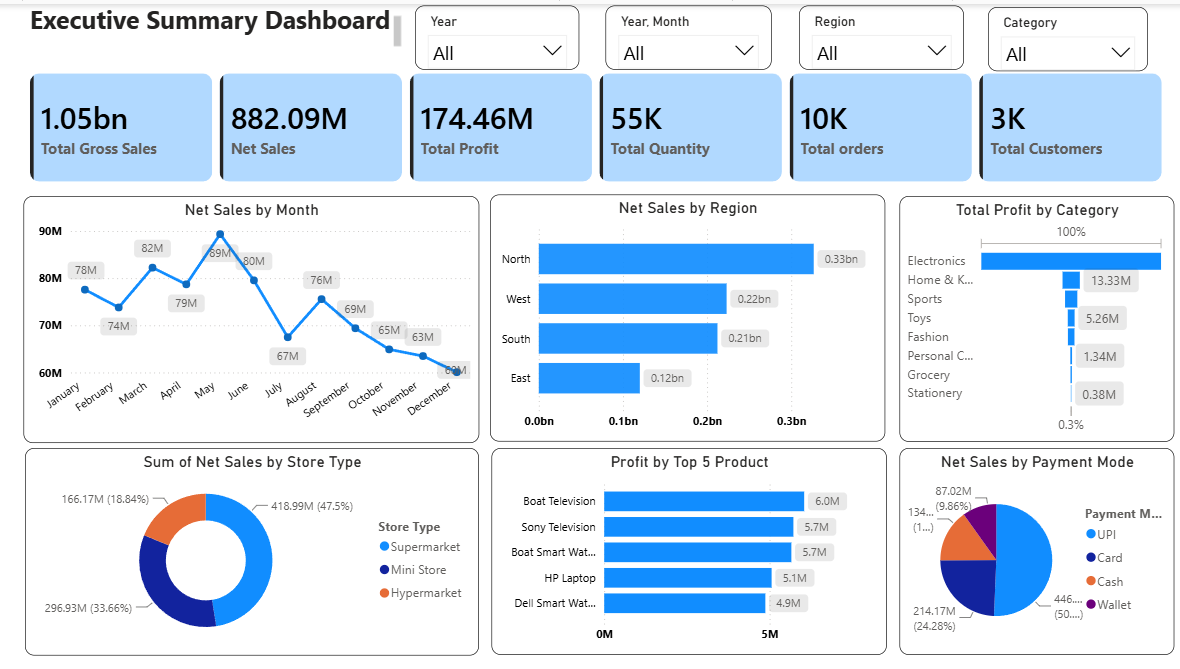

This screenshot's page, from the dashboard's own definition file:
{"tool":"powerbi","page":{"name":"Page 1","canvas":[1280,720],"ordinal":0},"visuals":[{"type":"slicer","fields":{"Values":["Date Table.Date.Variation.Date Hierarchy.Year"]},"box":[453.4,1.6,177.4,69.6],"z":0,"group":"g1"},{"type":"cardVisual","fields":{"Data":["All Measures.Total Gross Sales","All Measures.Net Sales","All Measures.Total Profit","All Measures.Total Quantity","All Measures.Total orders","All Measures.Total Customers"]},"box":[32.4,69.6,1233.9,127.9],"z":0},{"type":"textbox","box":[32.4,1.6,411.3,51.8],"z":1000},{"type":"slicer","fields":{"Values":["Date Table.Date.Variation.Date Hierarchy.Year","Date Table.Date.Variation.Date Hierarchy.Month"]},"box":[658.7,1.6,179.1,69.6],"z":1000,"group":"g1"},{"type":"group","id":"g1","title":"Group 1","box":[453.4,1.6,791.8,71.2],"z":2000},{"type":"slicer","fields":{"Values":["Stores.Region"]},"box":[867.3,2.2,178.1,69.6],"z":2000,"group":"g1"},{"type":"slicer","fields":{"Values":["Product.Category"]},"box":[1072.7,3.2,172.5,69.6],"z":3000,"group":"g1"},{"type":"lineChart","fields":{"Category":["Date Table.Date.Variation.Date Hierarchy.Month"],"Y":["All Measures.Net Sales"]},"box":[30,206.7,491.7,266.7],"z":3000},{"type":"clusteredBarChart","fields":{"Category":["Stores.Region"],"Y":["All Measures.Net Sales"]},"box":[535,205,426.7,266.7],"z":4000},{"type":"funnel","fields":{"Category":["Product.Category"],"Y":["All Measures.Total Profit"]},"box":[976.7,206.7,296.7,265],"z":5000},{"type":"donutChart","fields":{"Category":["Stores.Store Type"],"Y":["Sum(Sales.Net Sales)"]},"box":[32,480,490,224],"z":6000},{"type":"clusteredBarChart","title":"Profit by Top 5 Product","fields":{"Category":["Product.Product Name"],"Y":["All Measures.Total Profit"]},"box":[536.7,480,426.7,223.3],"z":7000},{"type":"pieChart","fields":{"Category":["Sales.Payment Mode"],"Y":["All Measures.Net Sales"]},"box":[976.7,480,296.7,223.3],"z":8000}]}

Visuals, with their boxes in screenshot pixels (x1, y1, x2, y2), scaled from the page's 1280x720 canvas onto the 1180x669 screenshot:
slicer - Date Table.Date.Variation.Date Hierarchy.Year: 418, 1, 582, 66
cardVisual - All Measures.Total Gross Sales x All Measures.Net Sales: 30, 65, 1167, 184
textbox: 30, 1, 409, 50
slicer - Date Table.Date.Variation.Date Hierarchy.Year x Date Table.Date.Variation.Date Hierarchy.Month: 607, 1, 772, 66
"Group 1" group: 418, 1, 1148, 68
slicer - Stores.Region: 800, 2, 964, 67
slicer - Product.Category: 989, 3, 1148, 68
lineChart - Date Table.Date.Variation.Date Hierarchy.Month x All Measures.Net Sales: 28, 192, 481, 440
clusteredBarChart - Stores.Region x All Measures.Net Sales: 493, 190, 887, 438
funnel - Product.Category x All Measures.Total Profit: 900, 192, 1174, 438
donutChart - Stores.Store Type x Sum(Sales.Net Sales): 30, 446, 481, 654
"Profit by Top 5 Product" clusteredBarChart: 495, 446, 888, 653
pieChart - Sales.Payment Mode x All Measures.Net Sales: 900, 446, 1174, 653
